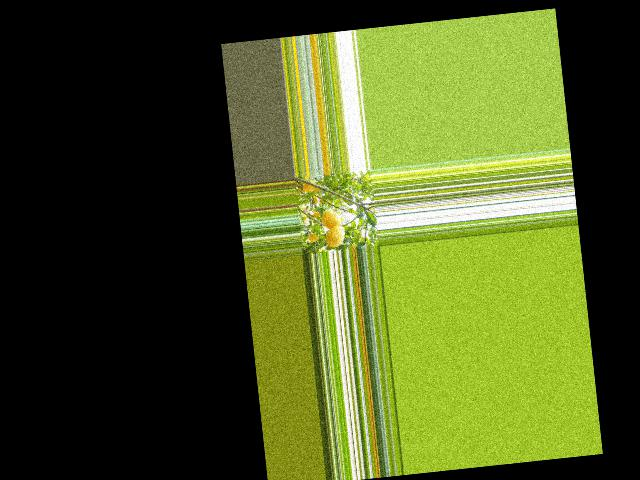lemon: (317, 207, 343, 231)
